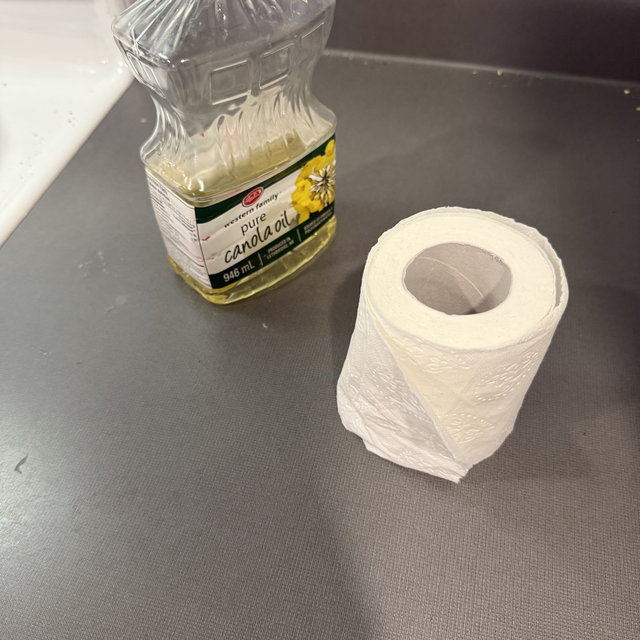Canola Oil: (103, 19, 355, 278)
Toilet Paper: (327, 187, 563, 491)
